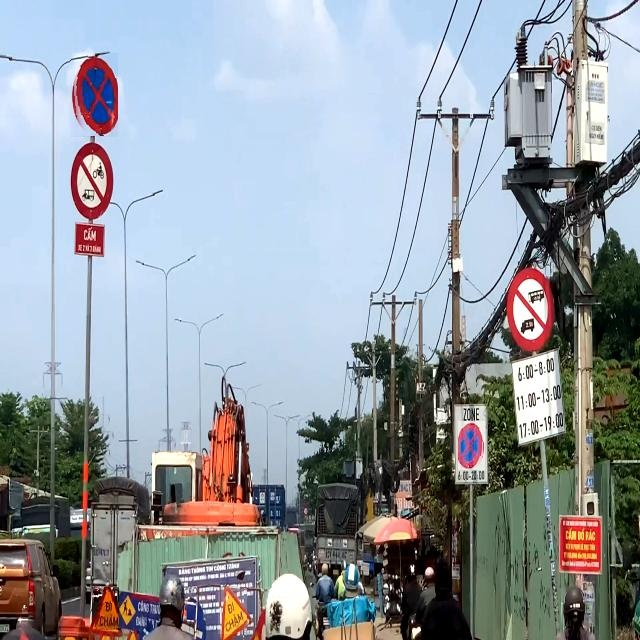bien_cam: (70, 54, 118, 138), (218, 587, 247, 634), (458, 421, 485, 470), (92, 587, 119, 630)
